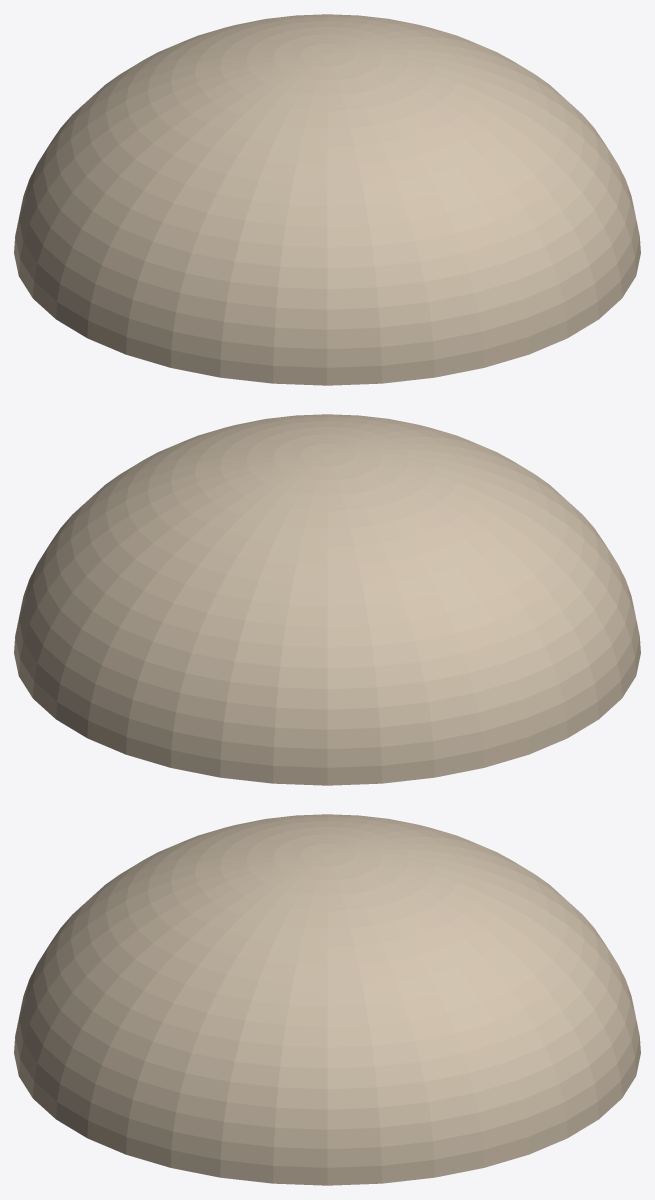
File: burger.glb
3 views of the same model, one above another, from view 1: azimuth 30°, elevation 25°; view 2: azimuth 150°, elevation 25°; view 3: azimuth 270°, elevation 25° (orthographic).
Parts seen in each view (by area): view 1: Mesh_Mesh_head_geo.001_lambert2SG.001; view 2: Mesh_Mesh_head_geo.001_lambert2SG.001; view 3: Mesh_Mesh_head_geo.001_lambert2SG.001.
Boxes of the visible parts, x1,y1,x2,y2 form: Mesh_Mesh_head_geo.001_lambert2SG.001: (14,14,640,385); Mesh_Mesh_head_geo.001_lambert2SG.001: (14,414,640,785); Mesh_Mesh_head_geo.001_lambert2SG.001: (14,814,640,1185).
Bounding box in the file's own units: 0.02 × 0.007 × 0.02.
